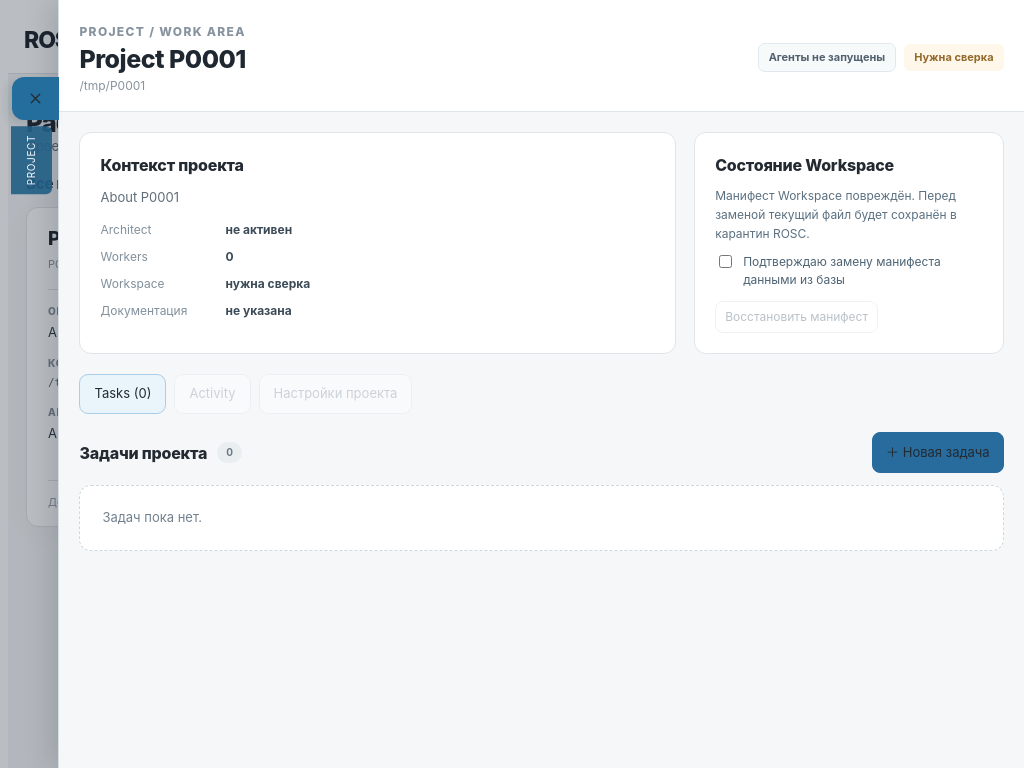
Test: Workspace repair › never shows a success notice when the repair outcome is uncertain (503)
Click the checkbox labelled "Подтверждаю замену манифеста данными из базы".
click(726, 262)  # box [719,255,732,268]
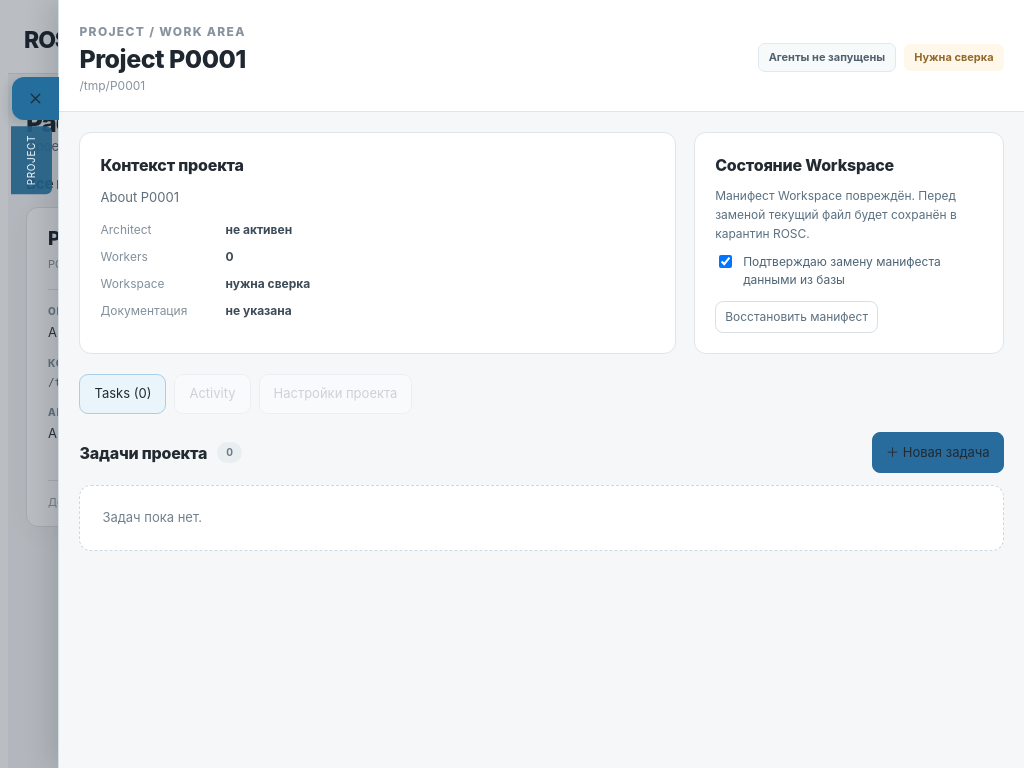
Click the button "Восстановить манифест".
click(797, 317)  # box [715,301,878,333]
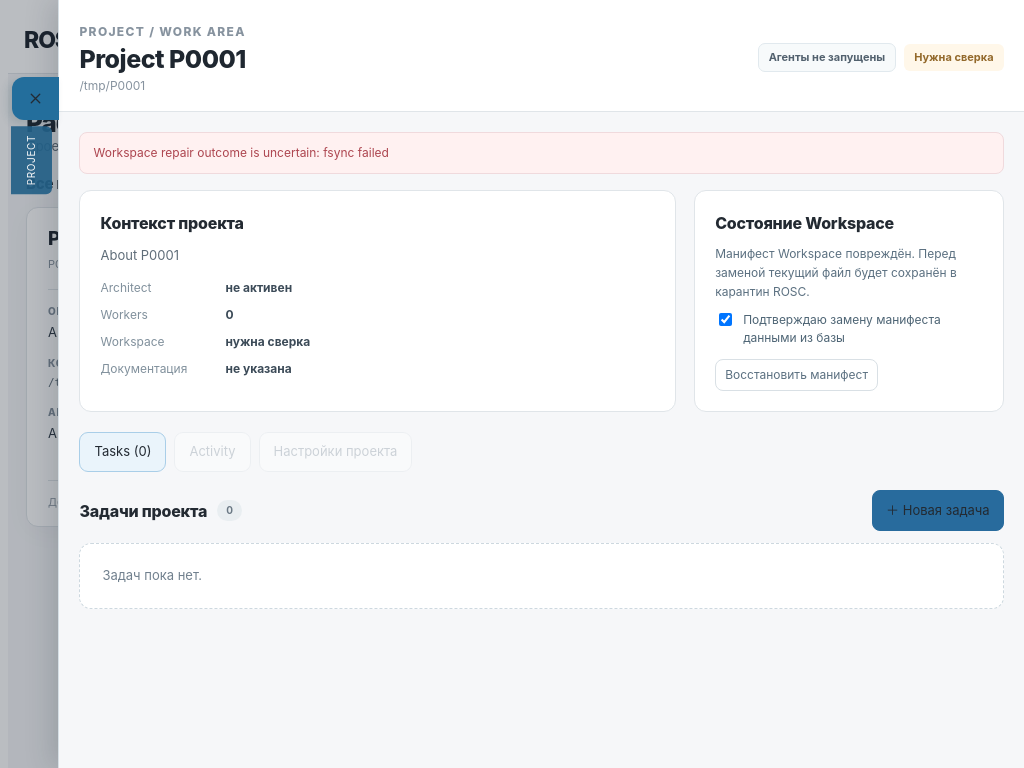
Expected: the message reads "Workspace repair outcome is uncertain: fsync failed", [94,146,389,160]
